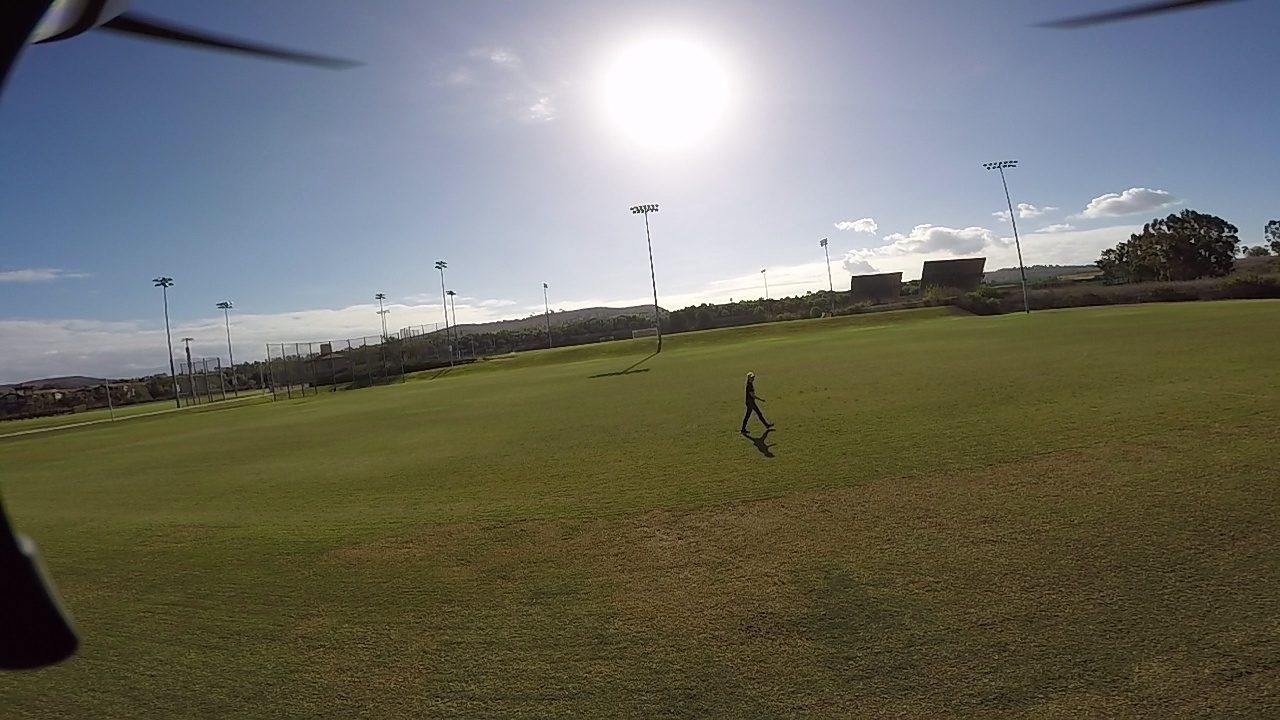person: (735, 365, 771, 447)
